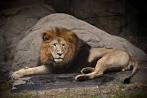lion: (10, 27, 136, 87)
